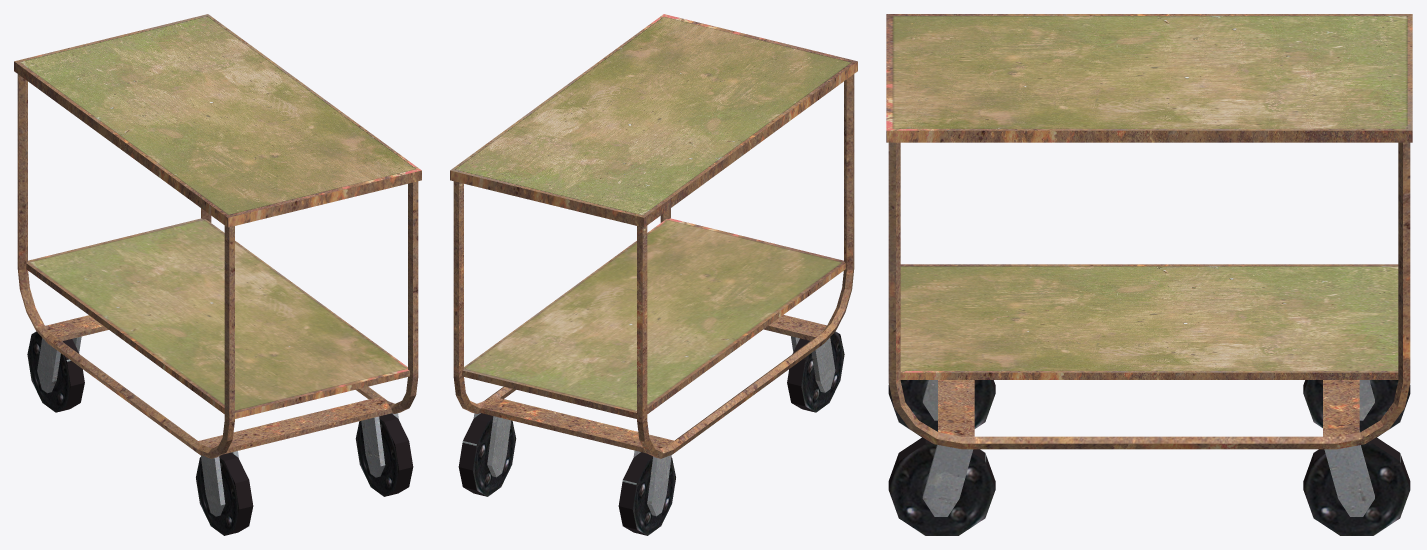
The model's file is trans4.fbx.
The picture shows the model from 3 angles, left to right: view 1: azimuth 30°, elevation 25°; view 2: azimuth 150°, elevation 25°; view 3: azimuth 270°, elevation 25°; orthographic projection. The views are drawn at different scales.
Parts seen in each view (by area): view 1: trans4_Layer1; view 2: trans4_Layer1; view 3: trans4_Layer1.
Part boxes in pixels (box(x1,y1,x2,y2)): trans4_Layer1: box(14, 14, 421, 535); trans4_Layer1: box(450, 14, 857, 535); trans4_Layer1: box(886, 14, 1412, 535).
Size of the model in its own units: 82.52 by 135 by 157.
1 material, 1 textured.
